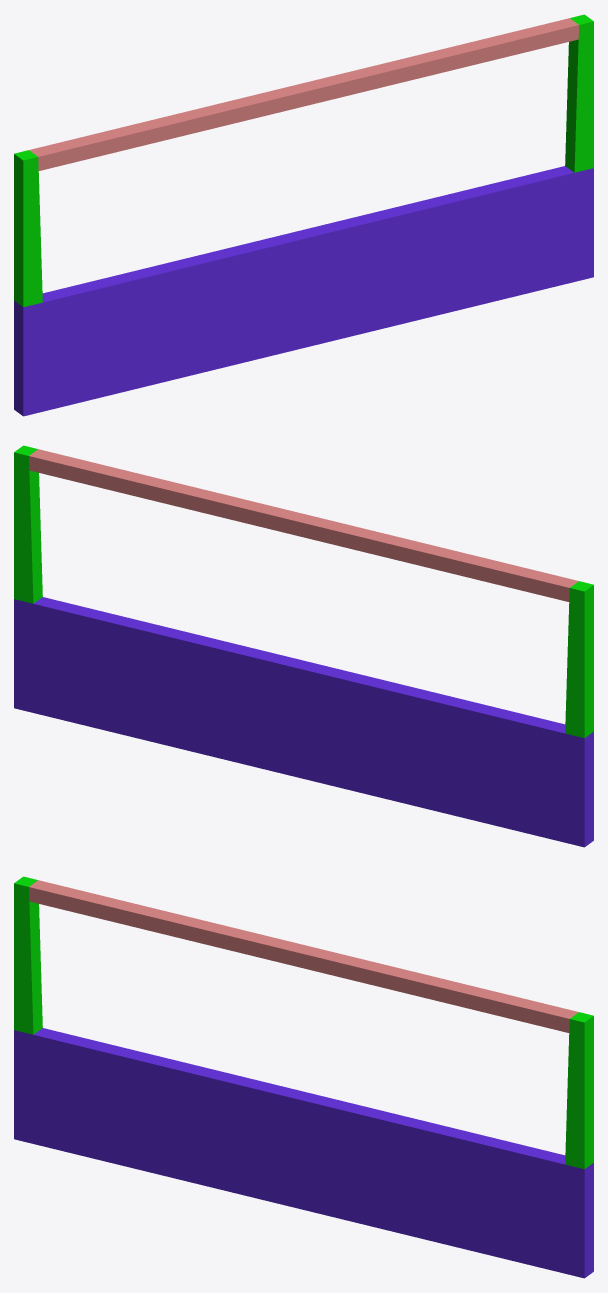
File: kitchenwall2.fbx
3 views of the same model, one above another, from view 1: azimuth 30°, elevation 25°; view 2: azimuth 150°, elevation 25°; view 3: azimuth 330°, elevation 25° (orthographic).
Parts seen in each view (by area): view 1: Cube.001; view 2: Cube.001; view 3: Cube.001.
Boxes of the visible parts, x1,y1,x2,y2 form: Cube.001: (14, 14, 593, 416); Cube.001: (14, 445, 593, 847); Cube.001: (14, 876, 593, 1278).
Bounding box in the file's own units: 700 × 300 × 20.
